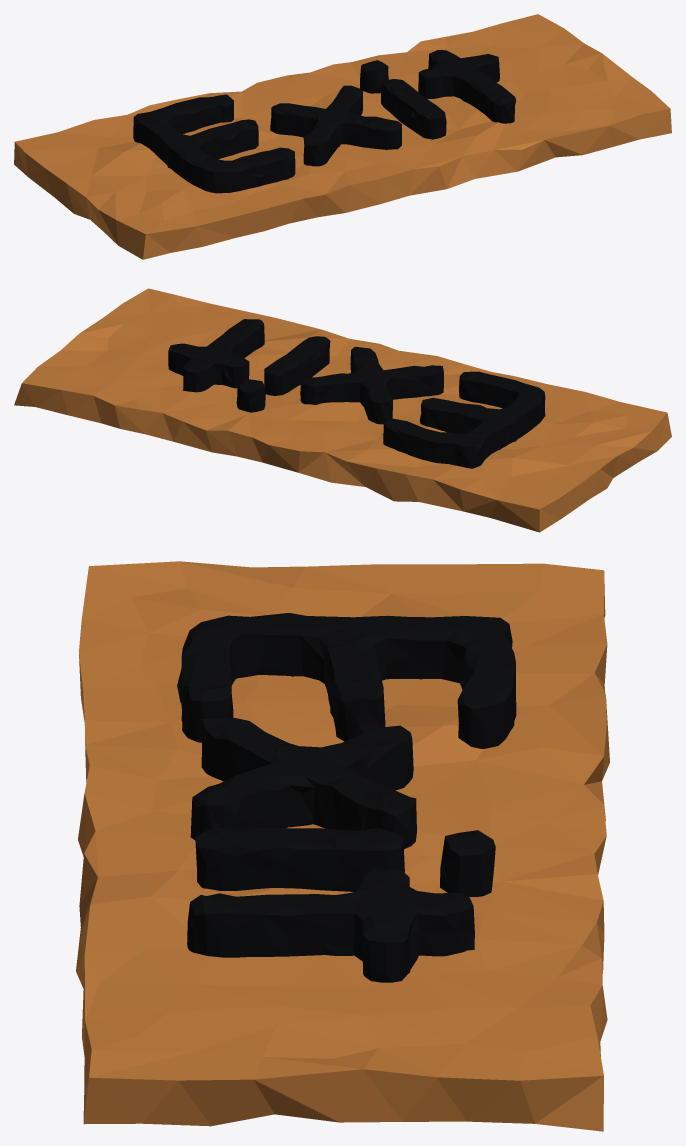
Rendered from exit.fbx.
3 renders of one model, top to bottom at view 1: azimuth 30°, elevation 25°; view 2: azimuth 150°, elevation 25°; view 3: azimuth 270°, elevation 25°, orthographic. The views are drawn at different scales.
Visible parts, largest first — view 1: Куб.009; view 2: Куб.009; view 3: Куб.009.
Boxes of the visible parts, <box> form: Куб.009: <box>14,14,671,259</box>; Куб.009: <box>14,288,671,532</box>; Куб.009: <box>76,561,609,1131</box>.
Size of the model in its own units: 214 by 19.17 by 92.88.
